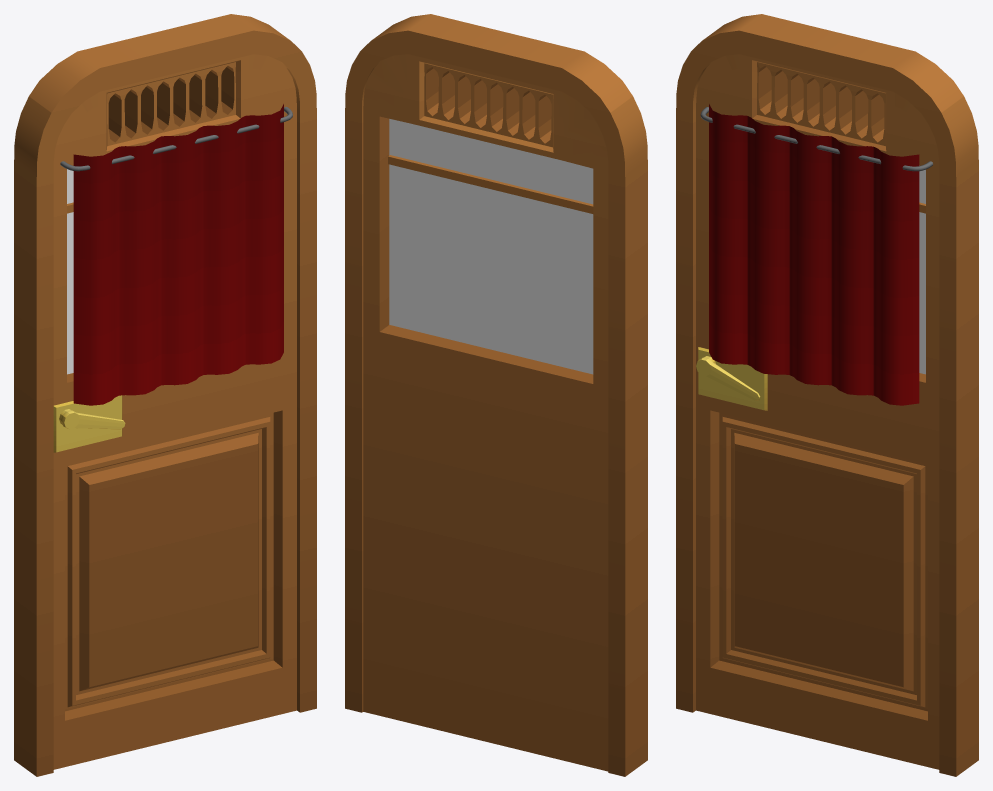
The model's file is SM_Door.fbx.
3 views of the same model, side by side, from view 1: azimuth 30°, elevation 25°; view 2: azimuth 150°, elevation 25°; view 3: azimuth 330°, elevation 25° (orthographic).
Visible parts, largest first — view 1: SM_door; view 2: SM_door; view 3: SM_door.
Boxes of the visible parts, x1,y1,x2,y2 form: SM_door: (14, 14, 316, 776); SM_door: (345, 14, 647, 776); SM_door: (676, 14, 978, 776).
Bounding box in the file's own units: 86.99 × 206 × 17.91.
